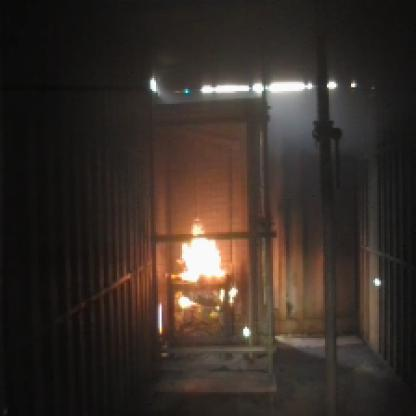Fire: (171, 215, 238, 312)
